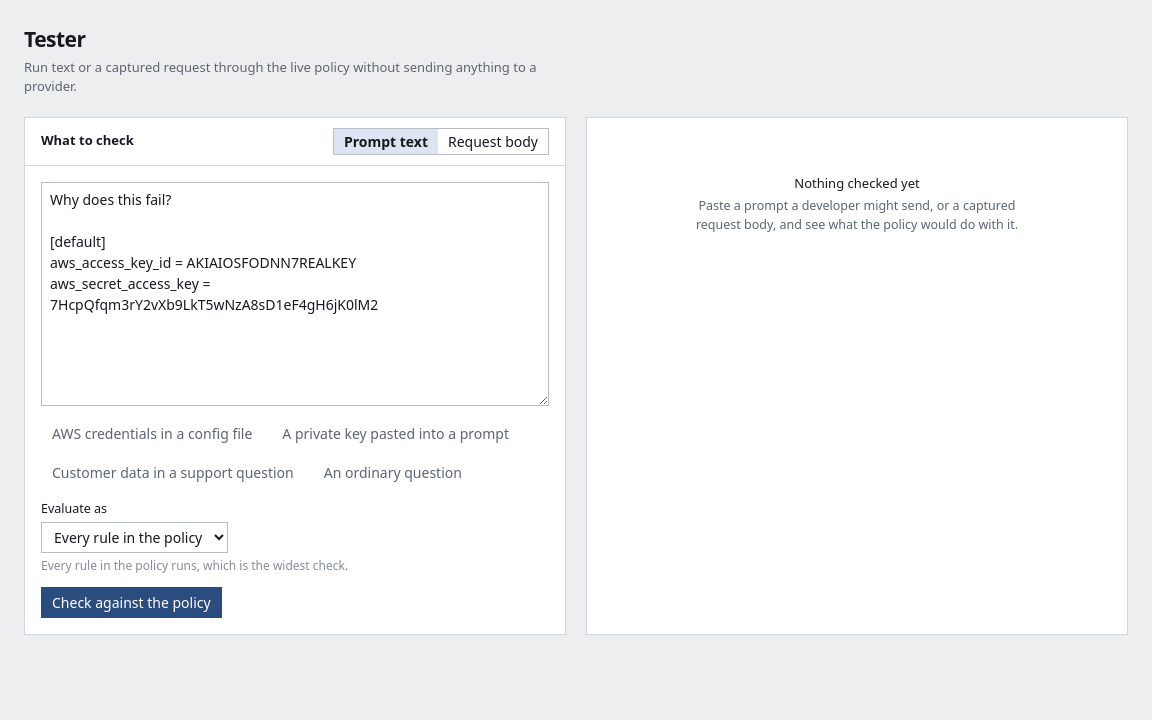
Tester › shows the outcome, the match and what the policy read
Click the button "Check against the policy": [131, 603] box [41, 587, 222, 618]
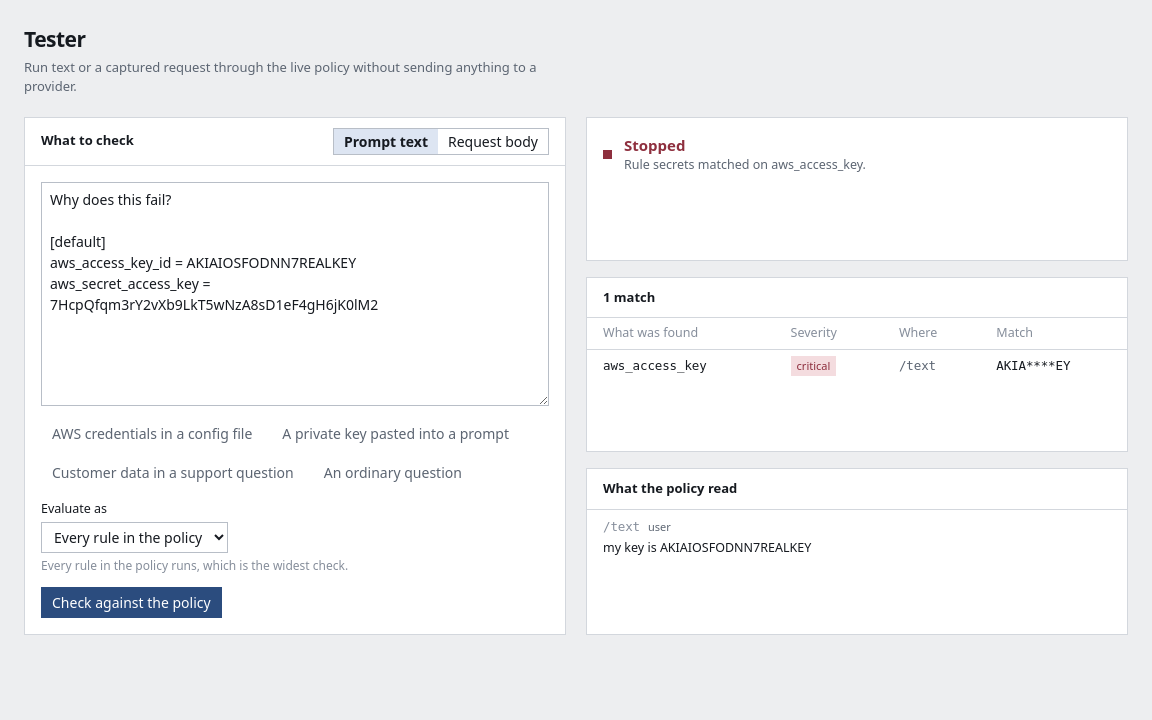
expect the text "Stopped" is shown: met, box [624, 134, 685, 154]
expect the text "Rule secrets matched on aws_access_key." is shown: met, box [624, 156, 866, 175]
expect the text "aws_access_key" is shown: met, box [587, 349, 775, 382]
